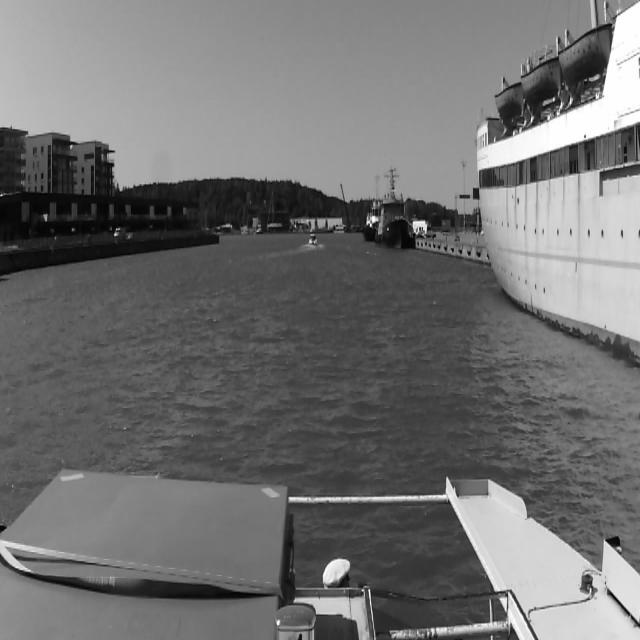ship: (476, 24, 628, 357), (380, 198, 416, 246), (364, 201, 380, 242), (309, 236, 317, 246), (256, 225, 262, 233)
